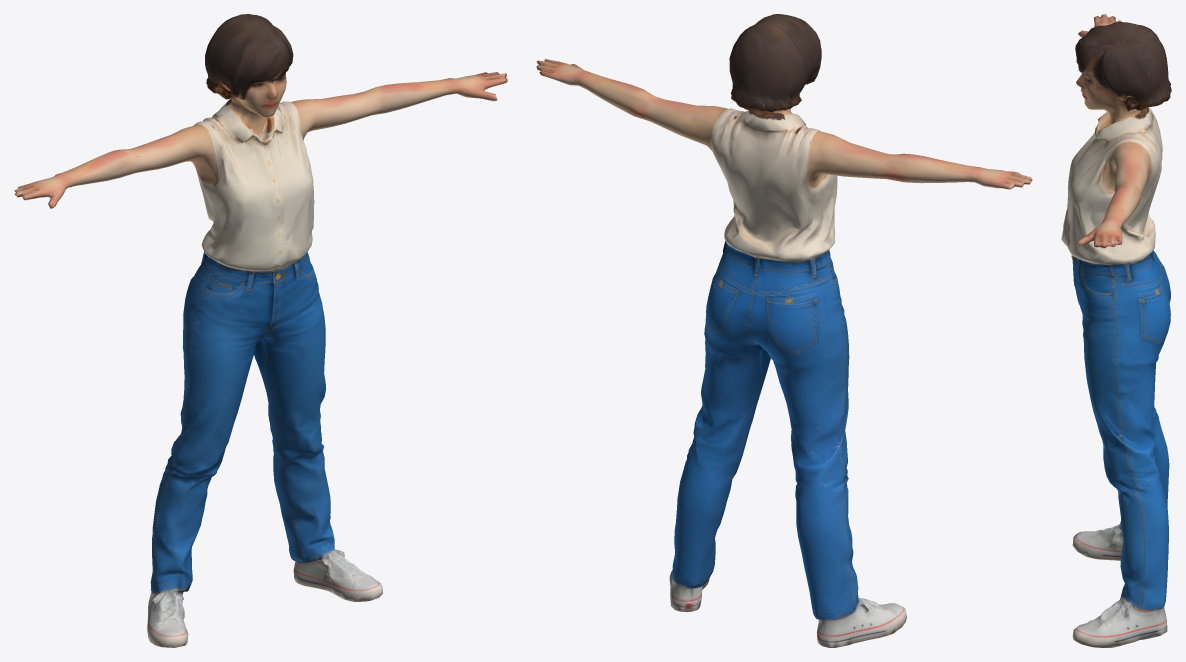
The model's file is Meshy_AI_T_Pose_on_Green_Backg_0212161221_texture.fbx.
3 views of the same model, side by side, from view 1: azimuth 30°, elevation 25°; view 2: azimuth 150°, elevation 25°; view 3: azimuth 270°, elevation 25° (orthographic). The views are drawn at different scales.
Parts seen in each view (by area): view 1: Mesh1.0; view 2: Mesh1.0; view 3: Mesh1.0.
Boxes of the visible parts, <box> form: Mesh1.0: <box>14,14,507,647</box>; Mesh1.0: <box>536,14,1032,647</box>; Mesh1.0: <box>1061,14,1171,647</box>.
Size of the model in its own units: 167 by 191 by 33.45.
1 material, 1 textured.
